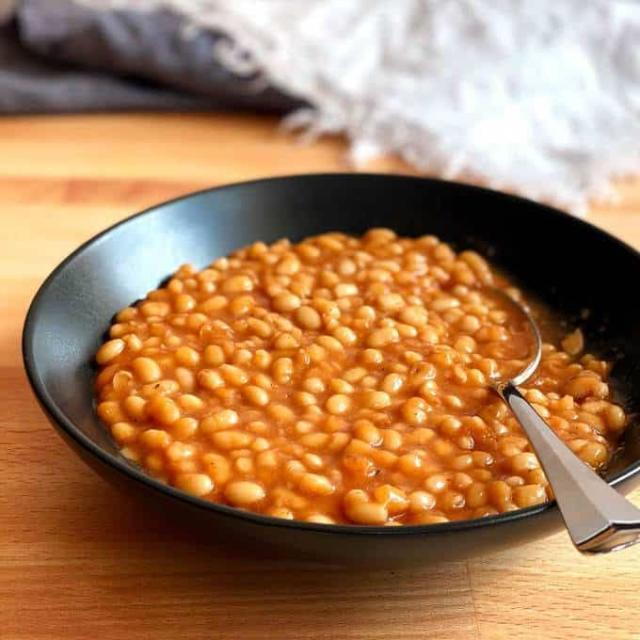beans: (96, 230, 552, 526), (374, 485, 409, 515), (224, 481, 265, 506), (146, 397, 180, 424), (201, 410, 239, 434), (345, 503, 388, 524), (176, 474, 213, 496), (211, 431, 253, 450), (299, 473, 335, 495), (131, 357, 161, 383), (513, 484, 546, 507), (578, 442, 607, 468), (96, 339, 126, 364), (354, 420, 382, 446), (401, 398, 427, 425), (96, 401, 126, 424), (367, 327, 399, 348), (171, 417, 198, 440), (219, 365, 248, 386), (296, 306, 321, 330), (400, 306, 428, 327), (123, 396, 146, 421), (466, 482, 488, 508), (196, 369, 223, 390), (140, 430, 171, 448), (360, 391, 391, 409), (398, 452, 422, 475), (243, 385, 269, 406), (409, 491, 435, 512), (223, 275, 253, 293), (512, 453, 539, 473), (272, 358, 293, 383), (229, 296, 255, 316), (605, 405, 625, 431), (273, 293, 301, 311), (112, 422, 136, 443), (326, 394, 351, 414), (377, 293, 404, 311), (268, 404, 295, 422), (178, 394, 205, 412), (381, 373, 404, 394), (176, 347, 200, 367), (424, 474, 448, 494), (334, 326, 357, 346), (204, 345, 225, 366), (362, 349, 383, 365), (303, 378, 325, 393), (306, 514, 335, 524)
